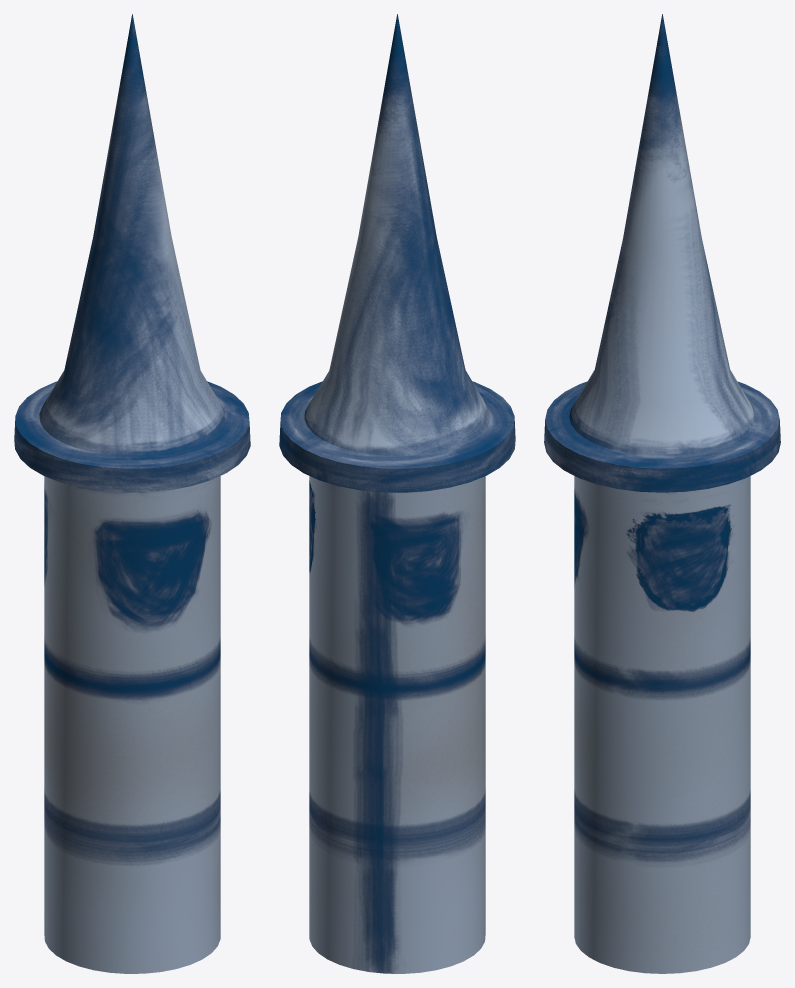
The model's file is TORRE.fbx.
The picture shows the model from 3 angles, left to right: view 1: azimuth 30°, elevation 25°; view 2: azimuth 150°, elevation 25°; view 3: azimuth 270°, elevation 25°; orthographic projection.
Visible parts, largest first — view 1: torre; view 2: torre; view 3: torre.
Boxes of the visible parts, x1,y1,x2,y2 form: torre: [14, 14, 250, 973]; torre: [279, 14, 515, 973]; torre: [544, 14, 780, 973].
Size of the model in its own units: 358 by 1539 by 358.
Materials: 1 (1 with a texture image).
